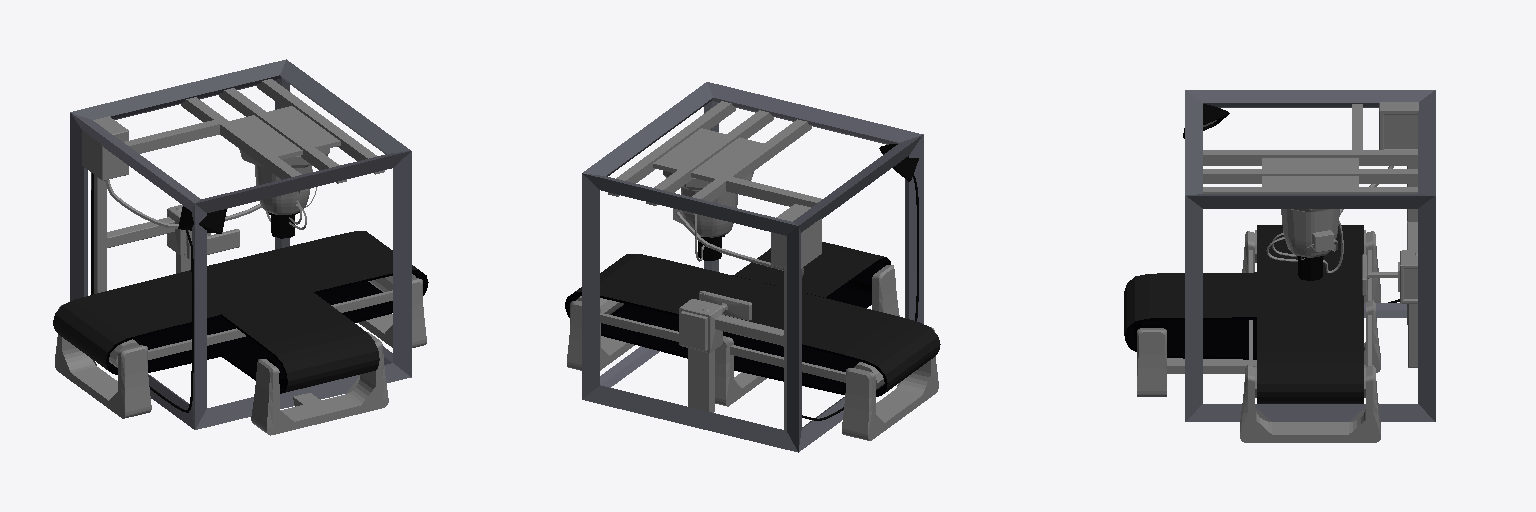
File: sorting_machine_2.obj
3 views of the same model, side by side, from view 1: azimuth 30°, elevation 25°; view 2: azimuth 150°, elevation 25°; view 3: azimuth 270°, elevation 25° (orthographic).
Parts seen in each view (by area): view 1: Cube, belt.002, legs.002, belt.003, Cube.007, Cube.004, Plane.002, Cube.002, Cube.003, Cube.001, bars.002, BézierCurve.003 (+5 smaller); view 2: Cube, belt.002, legs.002, Cube.007, belt.003, Cube.004, Plane.002, bars.002, Cube.002, Cube.003, Cube.001, Cube.005 (+2 smaller); view 3: Cube, belt.002, legs.002, belt.003, Cube.007, Cube.004, Cube.003, Plane.002, Cube.001, Cube.002, bars.002, Cylinder.003.
Part boxes in pixels (x1,y1,x2,y2): Cube: (70,59,411,429); belt.002: (53,231,428,374); legs.002: (55,278,426,435); belt.003: (221,292,379,393); Cube.007: (82,116,210,293); Cube.004: (124,97,309,192); Plane.002: (230,106,340,159); Cube.002: (257,79,384,174); Cube.003: (219,88,346,183); Cube.001: (239,148,329,214); bars.002: (148,290,392,359); BézierCurve.003: (91,173,193,412); Cube: (582,82,923,452); belt.002: (565,254,940,396); legs.002: (567,248,938,440); Cube.007: (679,204,821,430); belt.003: (733,242,890,307); Cube.004: (684,119,821,214); Plane.002: (653,128,763,181); bars.002: (600,313,845,382); Cube.002: (608,101,735,196); Cube.003: (646,110,773,205); Cube.001: (663,171,753,237); Cube.005: (699,291,751,320); Cube: (1185,90,1435,421); belt.002: (1257,225,1363,403); legs.002: (1137,231,1380,442); belt.003: (1124,272,1256,359); Cube.007: (1379,102,1418,367); Cube.004: (1203,104,1417,165); Cube.003: (1203,169,1417,183); Plane.002: (1262,158,1358,186); Cube.001: (1281,209,1339,257); Cube.002: (1203,187,1417,193); bars.002: (1249,250,1371,365); Cylinder.003: (1297,256,1323,280).
Size of the model in its own units: 2.98 by 2 by 2.49.